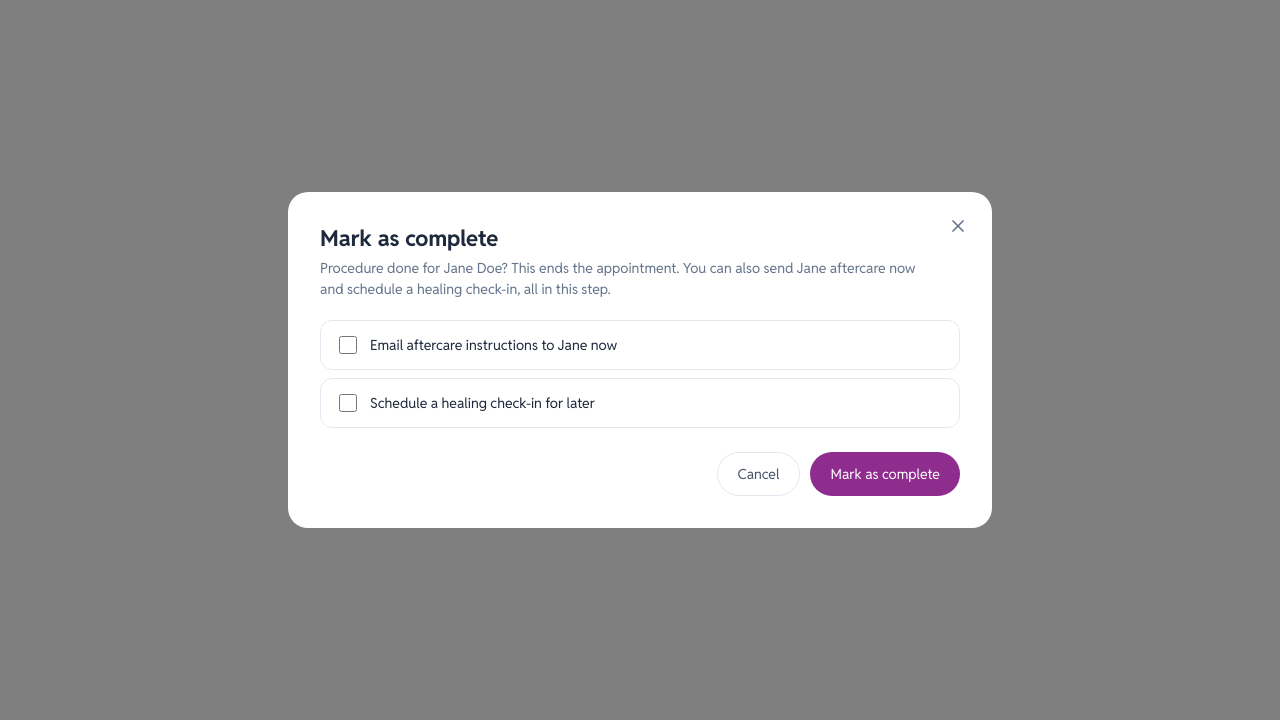
CareMessageModal › healing check-in in the same step › does all three with one button when aftercare is ticked too
Later steps or results of the test are not shown.
Click the checkbox labelled "Email aftercare instructions to Jane now" at (348, 345), box [339, 336, 357, 354]
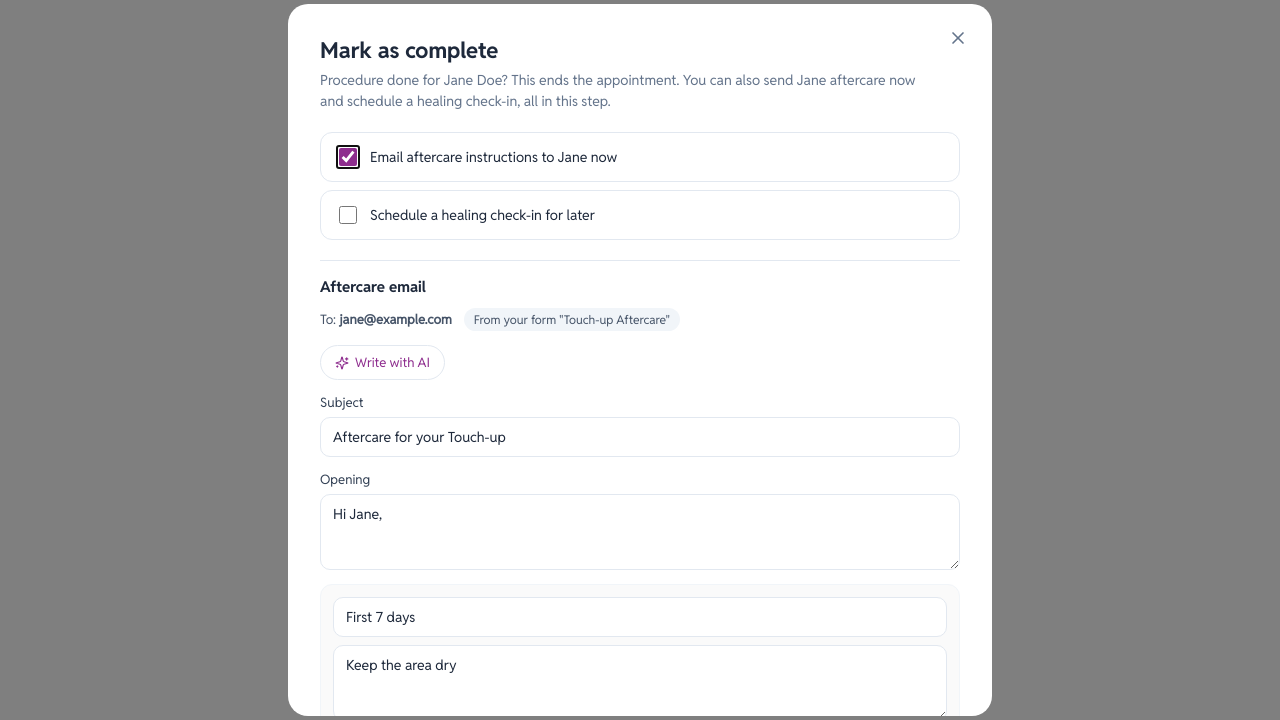
Click the checkbox labelled "Schedule a healing check-in for later" at (348, 215), box [339, 206, 357, 224]
(page scrolled)
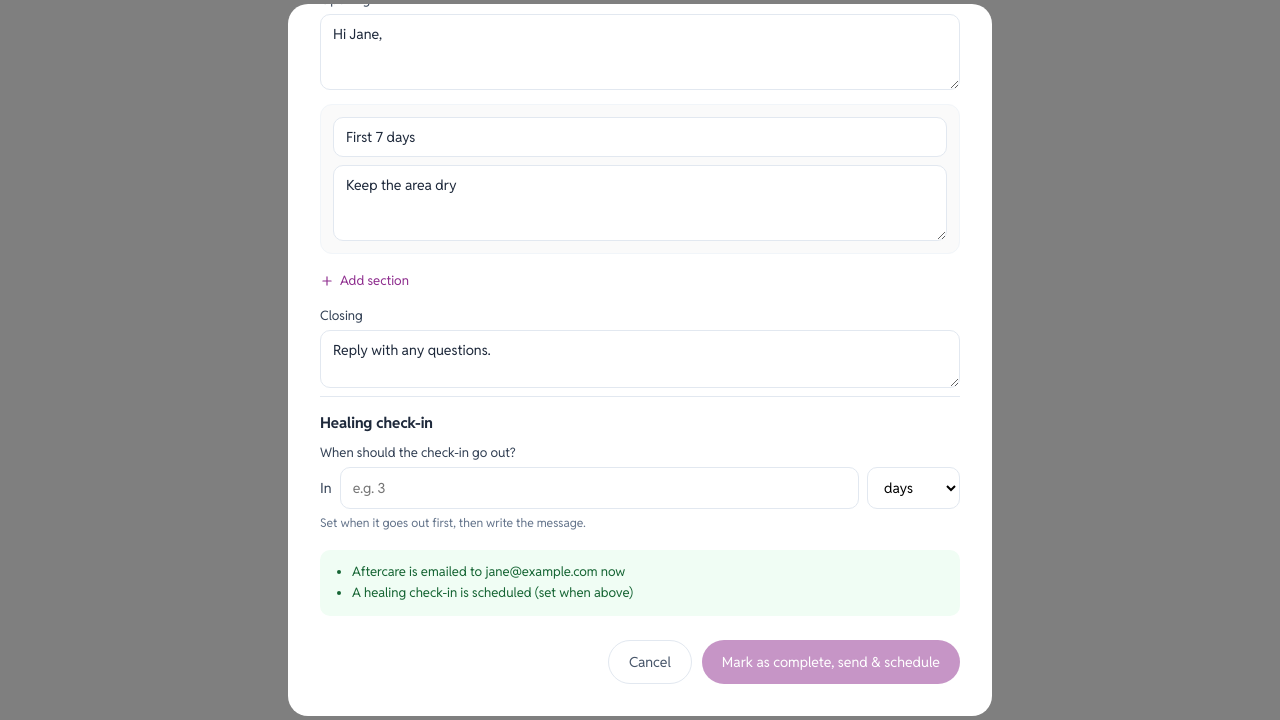
Type "3" into the number field named "How many" at (599, 488), box [340, 467, 859, 509]
(page scrolled)
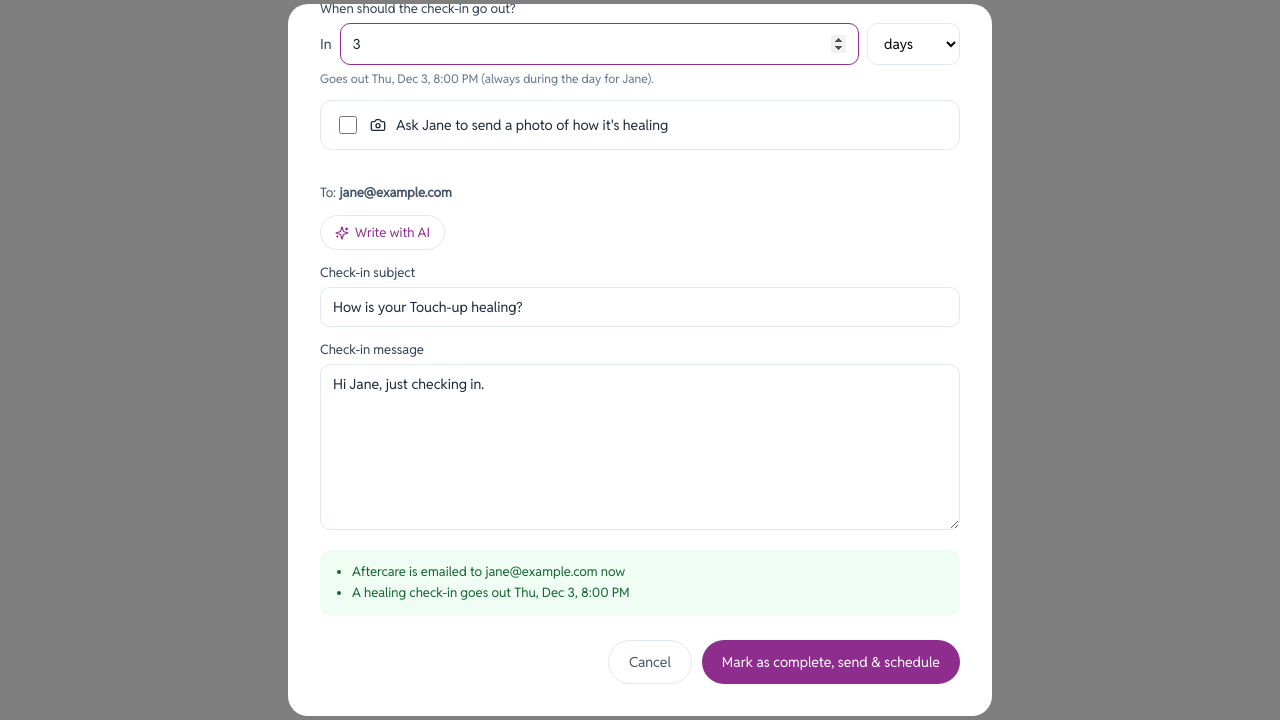
expect the list named "What happens" shows "Aftercare is emailed to jane@example.com now": met, box [320, 550, 960, 616]
expect the text box labelled "Check-in message" is not empty: met, box [320, 364, 960, 530]
expect the list named "What happens" shows "A healing check-in goes out": met, box [352, 584, 630, 601]
